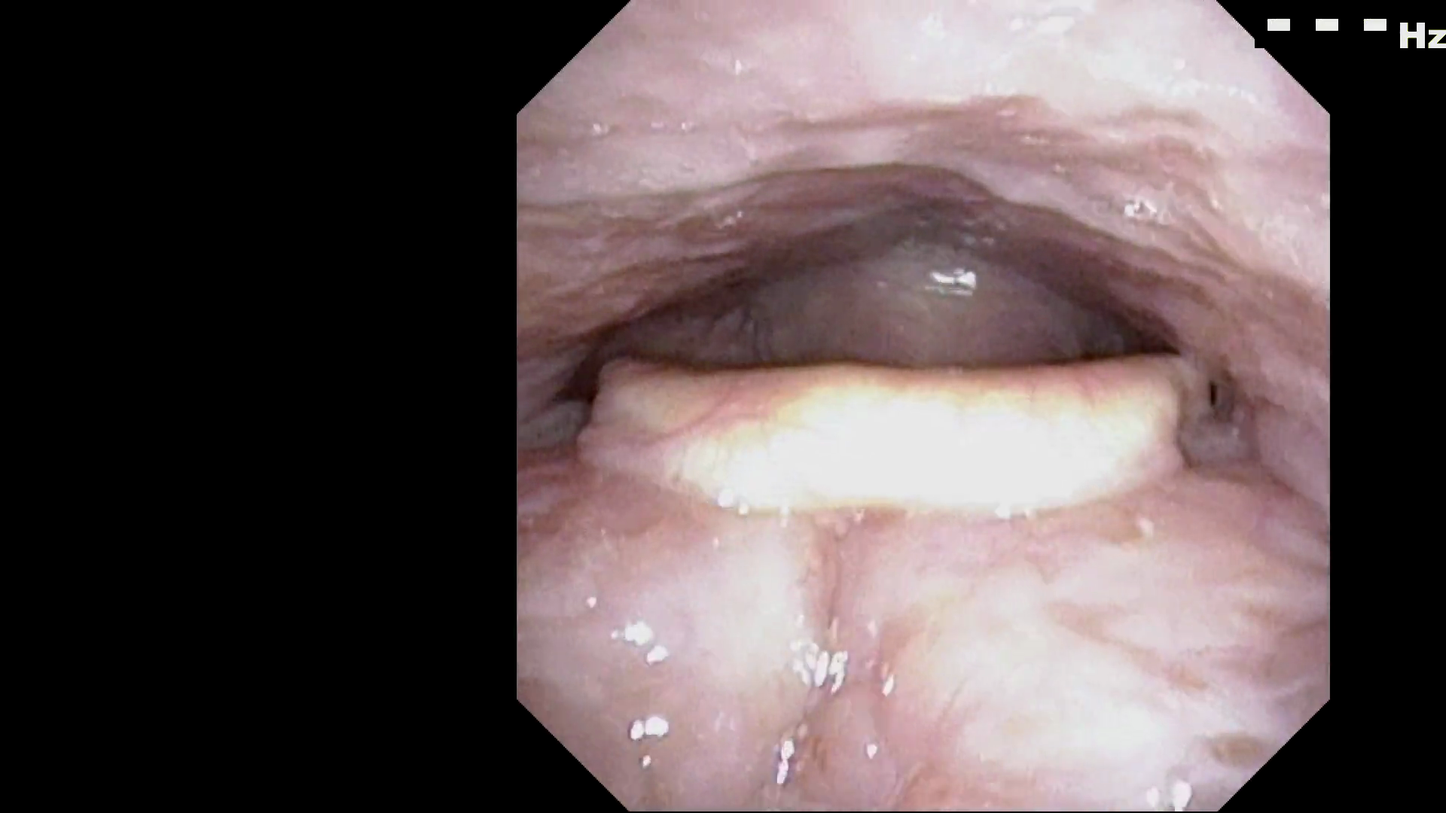epiglottis: (602, 311, 1192, 582)
trachea: (854, 352, 1018, 563)
